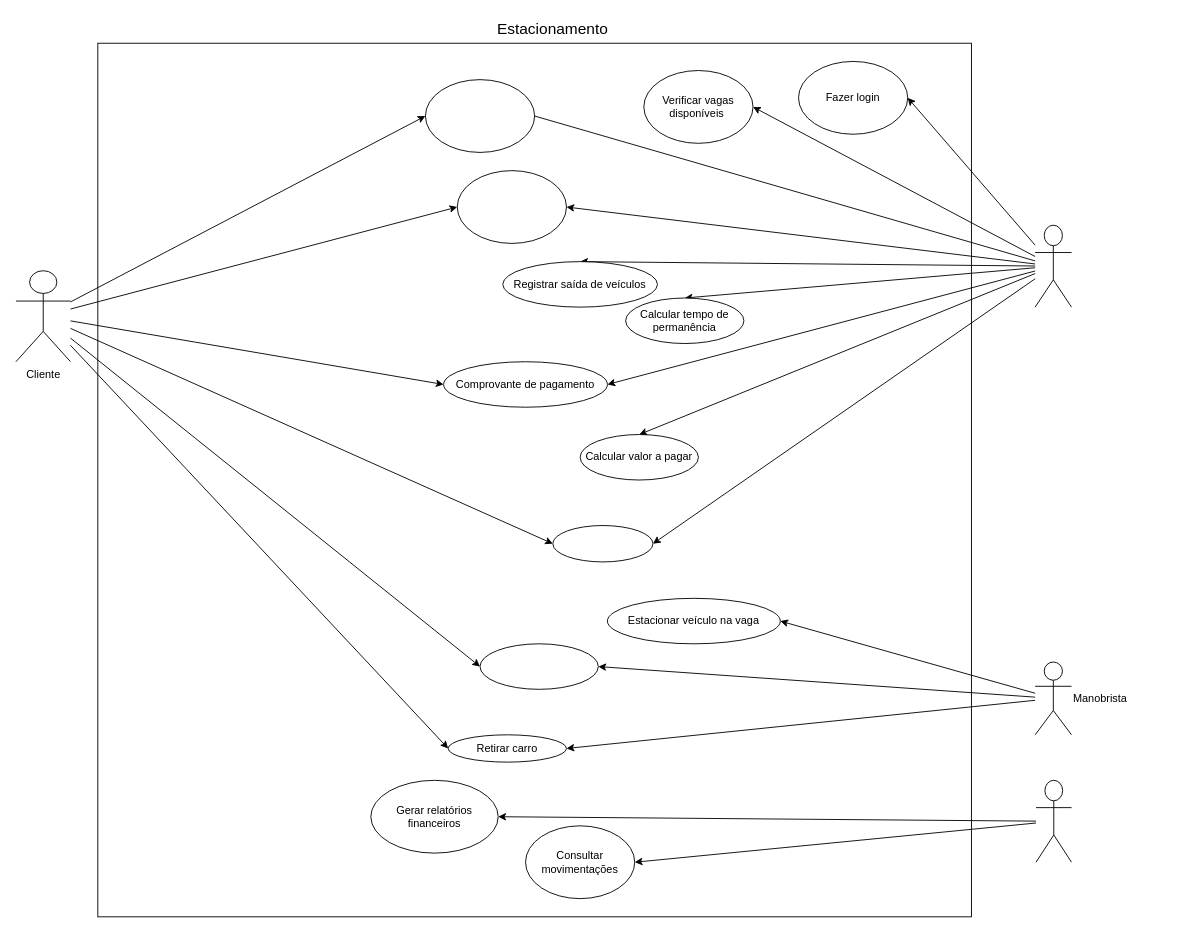
The diagram is 1187 pixels wide and 933 high, and some of its shapes have lost their labels. The centre of each missing label's shape, as x and y in pixels:
Emitir recibo de entrada: point 511,206
Entregar Veículo: point 538,666
Gerente: point 1053,820
Pagamento: point 602,543
Recepcionista: point 1053,265
Registrar entrada de veículos: point 480,115
